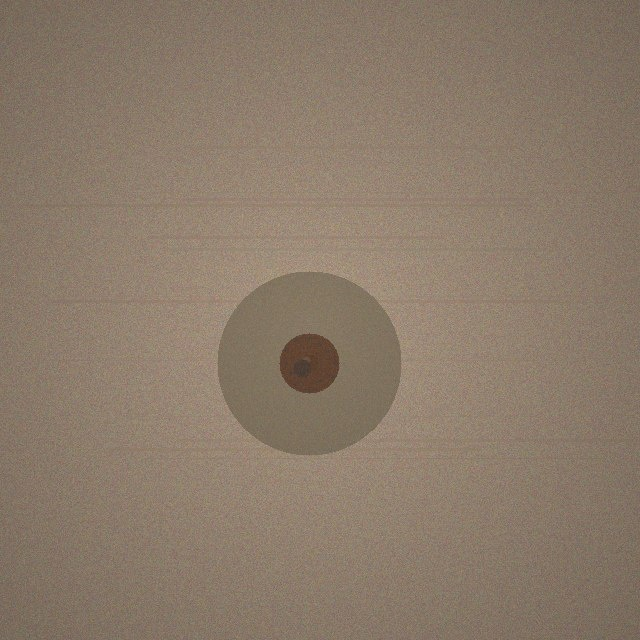cold_weld: (217, 271, 401, 455)
